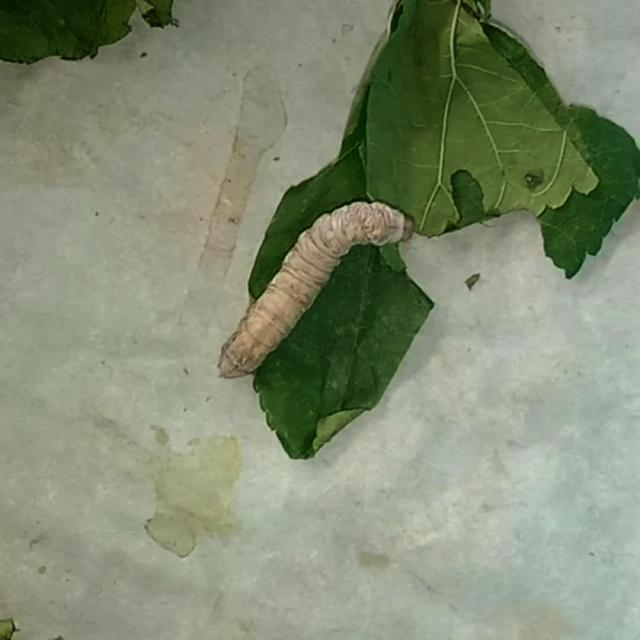Grasserie: (208, 153, 445, 386)
